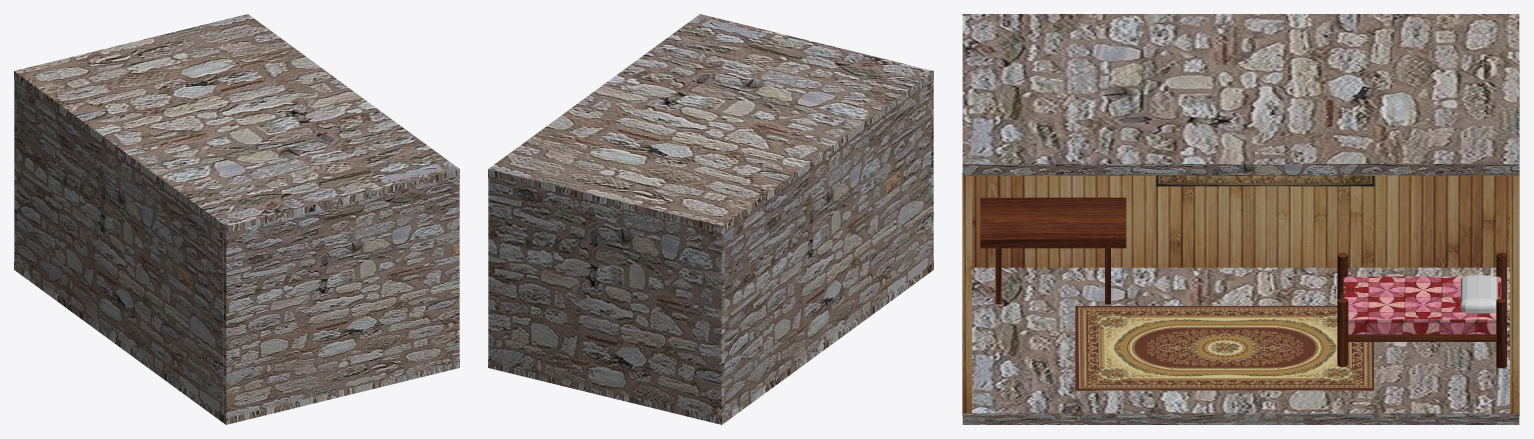
The model's file is roomFurnished16.dae.
3 views of the same model, side by side, from view 1: azimuth 30°, elevation 25°; view 2: azimuth 150°, elevation 25°; view 3: azimuth 270°, elevation 25° (orthographic). The views are drawn at different scales.
Visible parts, largest first — view 1: room; view 2: room; view 3: room, rug, table, mattress, frame, tapestry, pillow.
Part boxes in pixels (left/top/right/bottom): room: left=14, top=14, right=459, bottom=424; room: left=488, top=14, right=933, bottom=424; room: left=962, top=14, right=1519, bottom=424; rug: left=1075, top=306, right=1373, bottom=390; table: left=980, top=197, right=1126, bottom=304; mattress: left=1343, top=276, right=1501, bottom=334; frame: left=1337, top=252, right=1506, bottom=368; tapestry: left=1156, top=175, right=1374, bottom=186; pillow: left=1460, top=275, right=1497, bottom=313.
Size of the model in its own units: 8.12 by 12.75 by 6.59.
6 materials, 6 textured.
